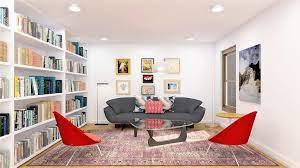chair: (52, 105, 103, 164), (211, 109, 255, 164)
door: (98, 83, 109, 124)
light: (63, 2, 86, 16), (205, 3, 228, 14), (99, 34, 109, 46), (183, 35, 195, 44)
sofa: (105, 97, 206, 128)
table: (126, 118, 200, 145), (217, 107, 245, 129)
